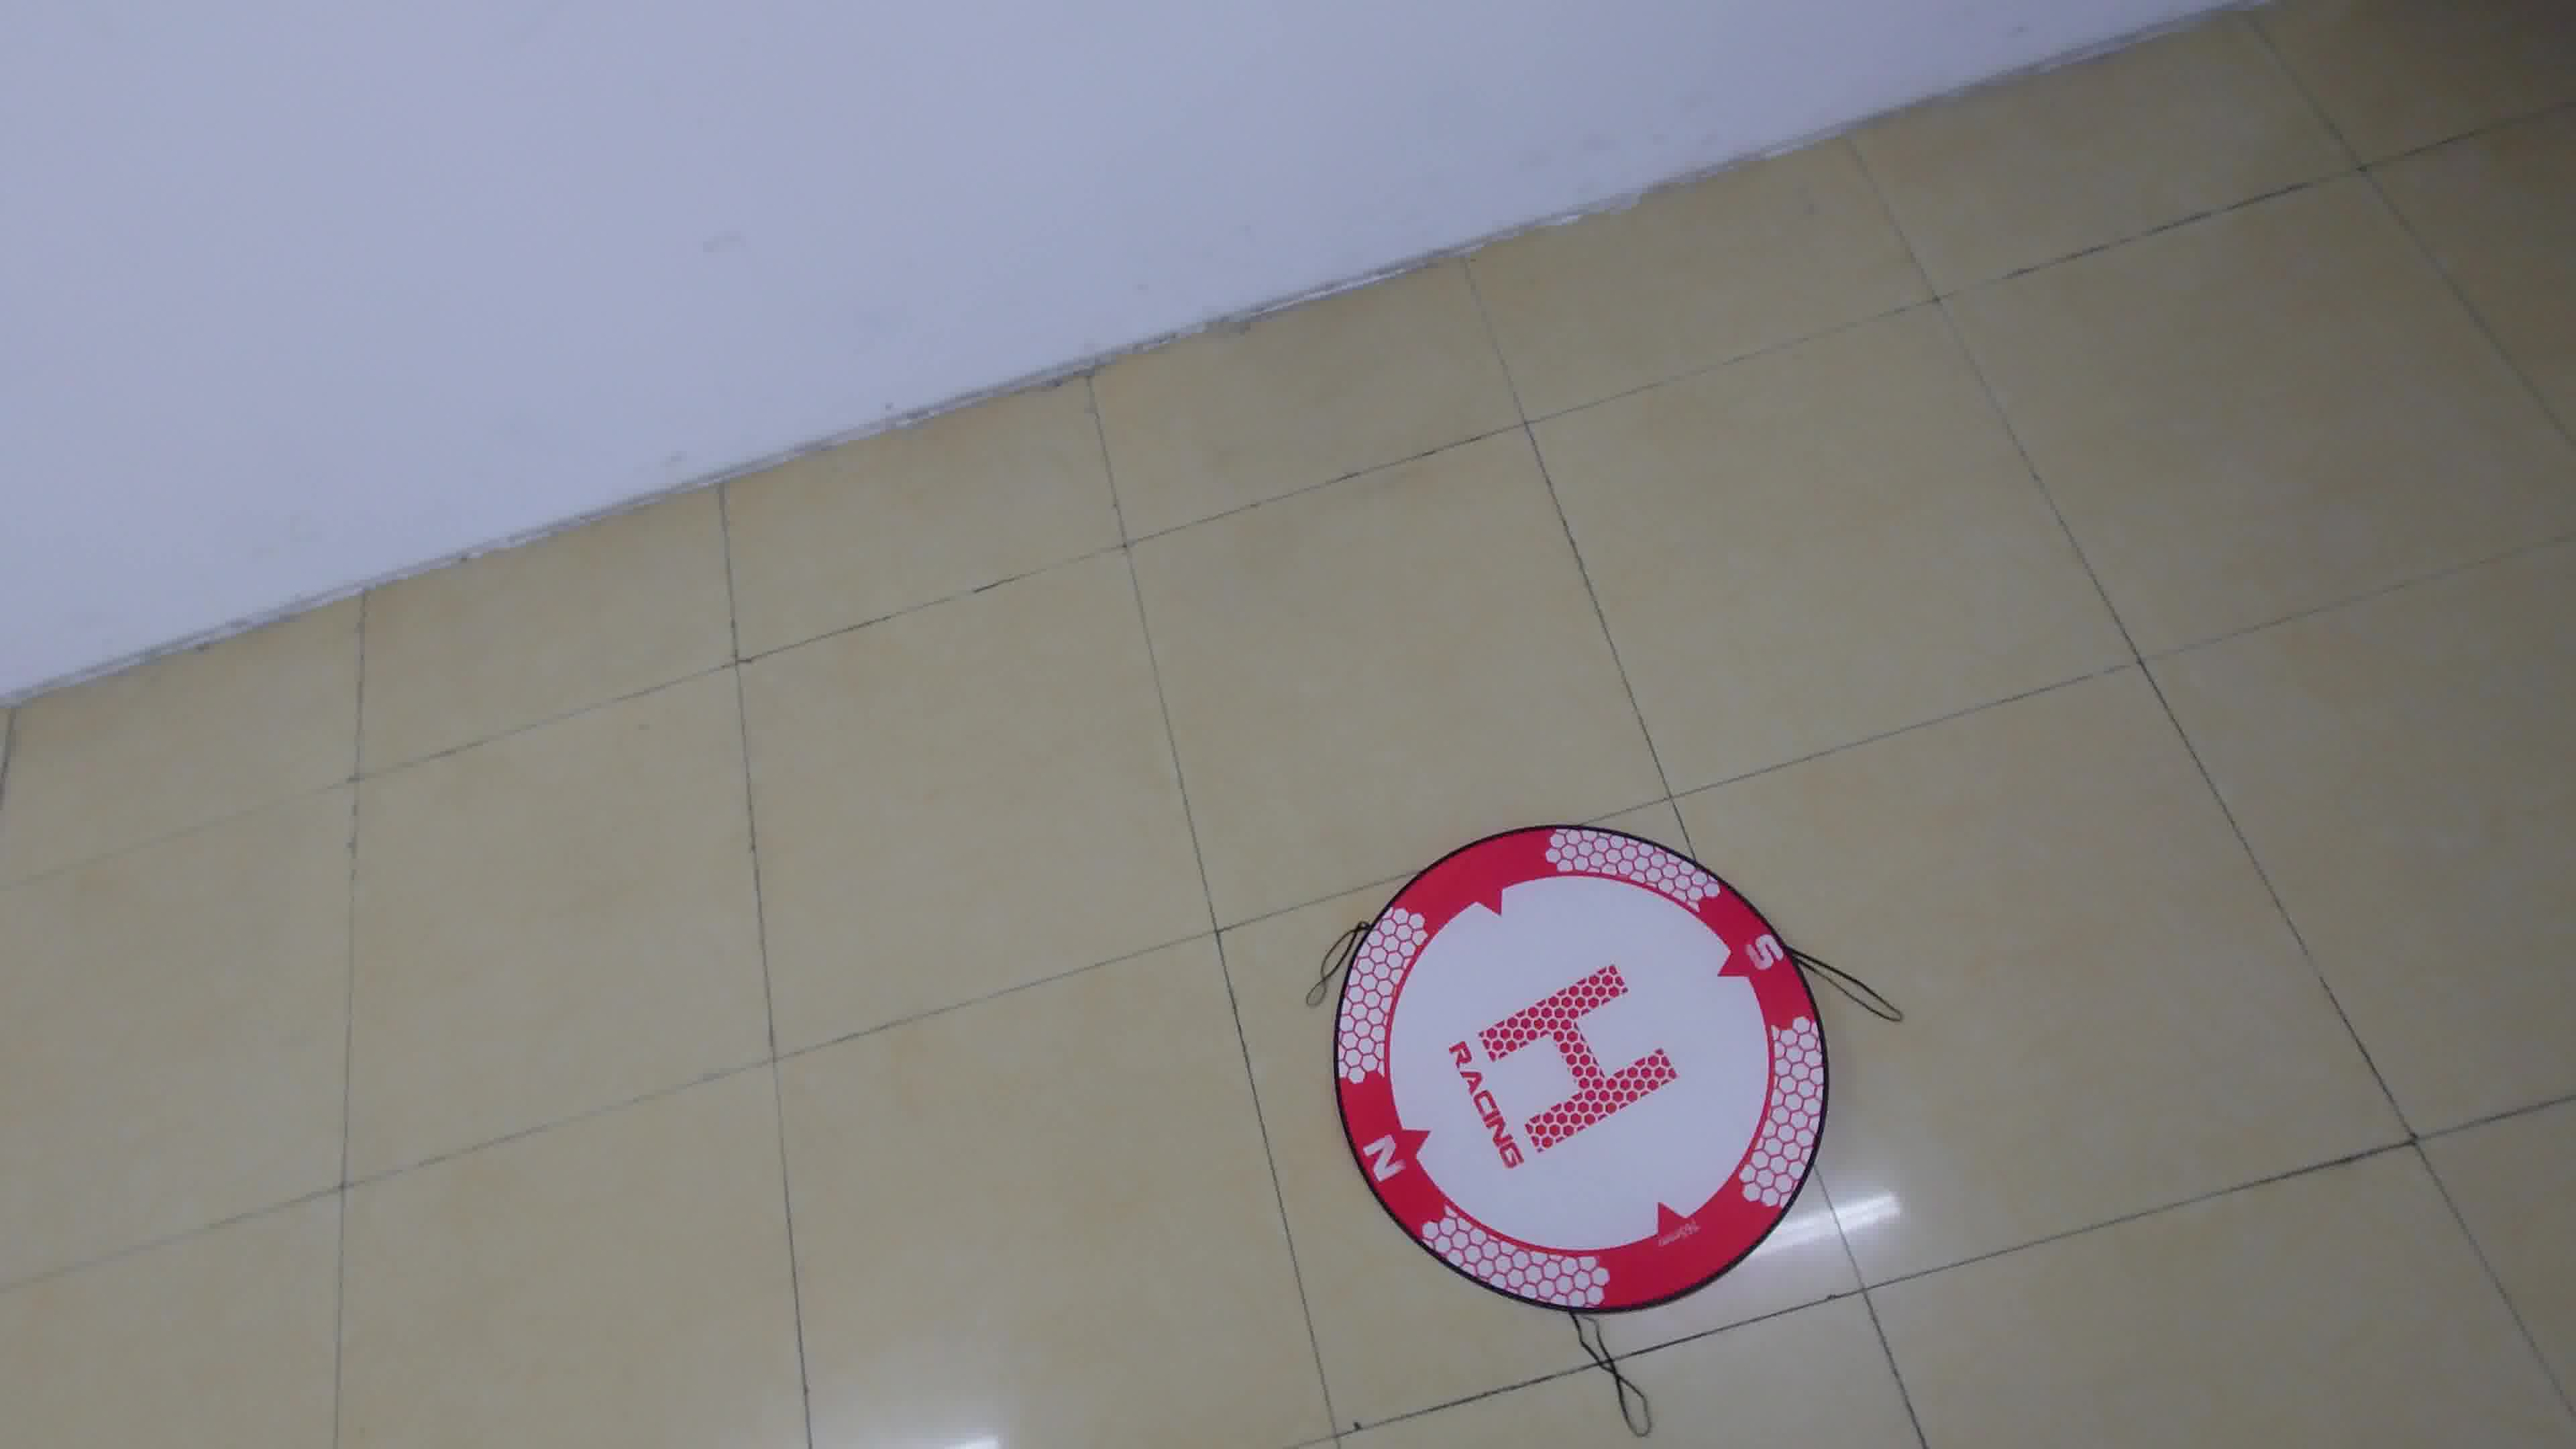H: (1476, 966, 1681, 1154)
